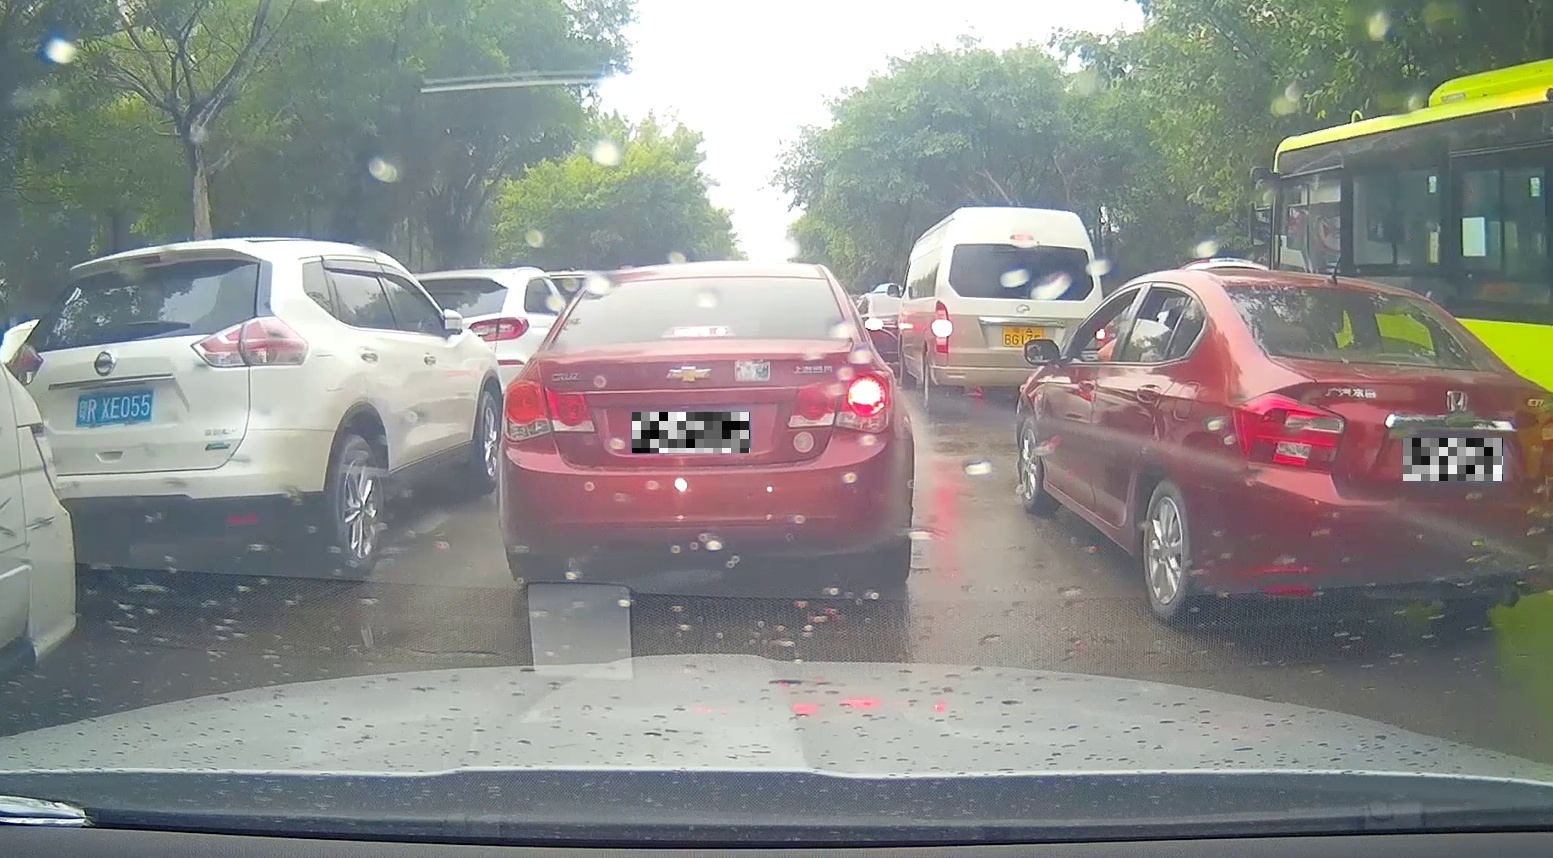L_light: (501, 378, 598, 443)
R_light: (786, 369, 896, 434)
T_light: (661, 327, 737, 340)
day-right: (497, 261, 914, 586)
plate_1: (632, 412, 750, 453)
plate_2: (1403, 439, 1503, 481)
